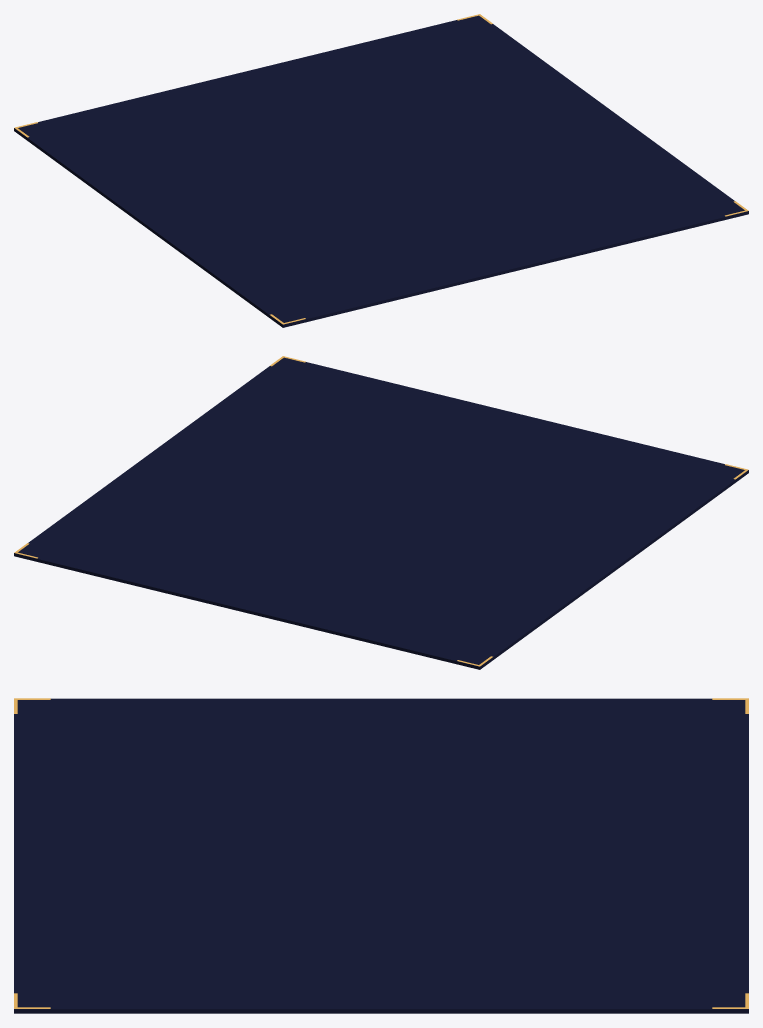
File: tile_neon.glb
3 views of the same model, one above another, from view 1: azimuth 30°, elevation 25°; view 2: azimuth 150°, elevation 25°; view 3: azimuth 270°, elevation 25° (orthographic). The views are drawn at different scales.
Visible parts, largest first — view 1: Floor_tiles; view 2: Floor_tiles; view 3: Floor_tiles.
Boxes of the visible parts, box(x1,y1,x2,y2) form: Floor_tiles: box(14, 14, 748, 327); Floor_tiles: box(14, 356, 748, 669); Floor_tiles: box(14, 698, 748, 1013).
Size of what is drawn, in the model's own units: 16 by 0.11 by 16.
